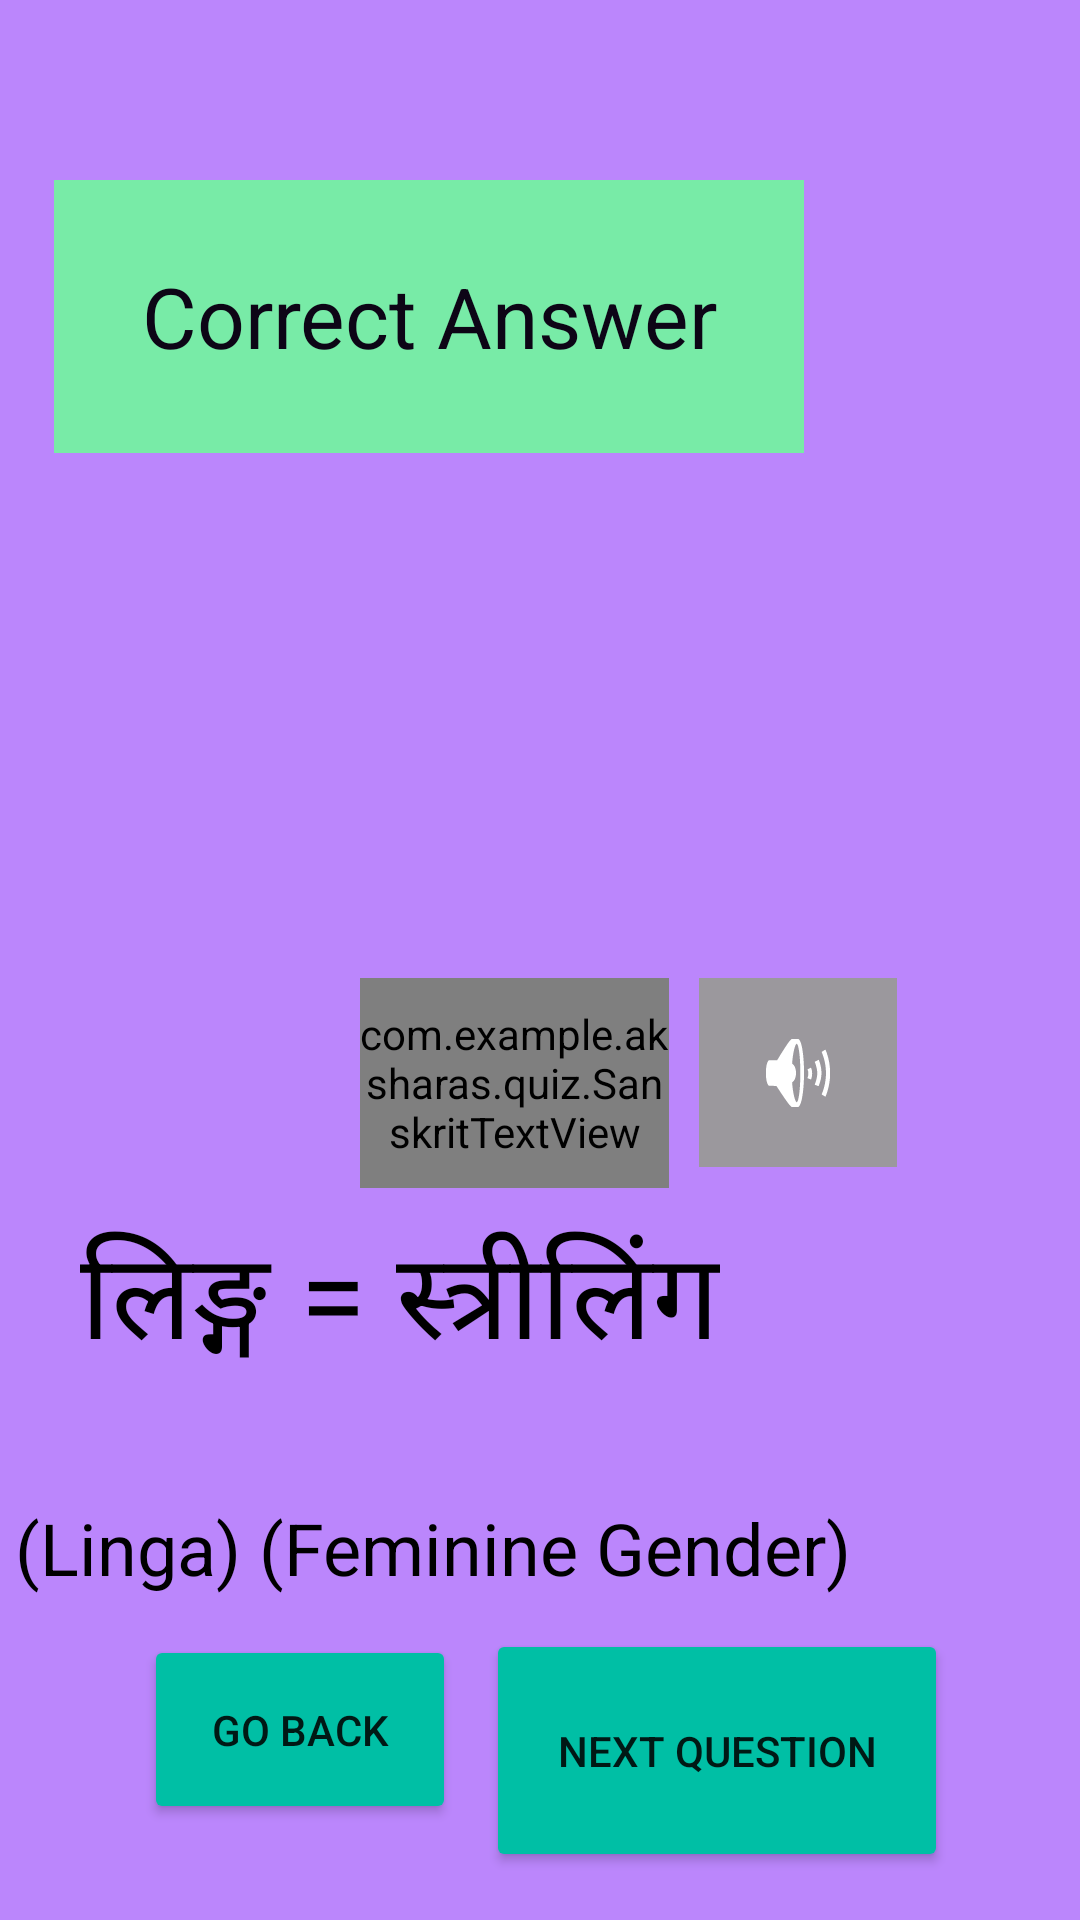

Point at icon controls on the screen. Image size 1080w x 1920h, points as (x=x, y=y).
lock silent mode off: (x=798, y=1072)
